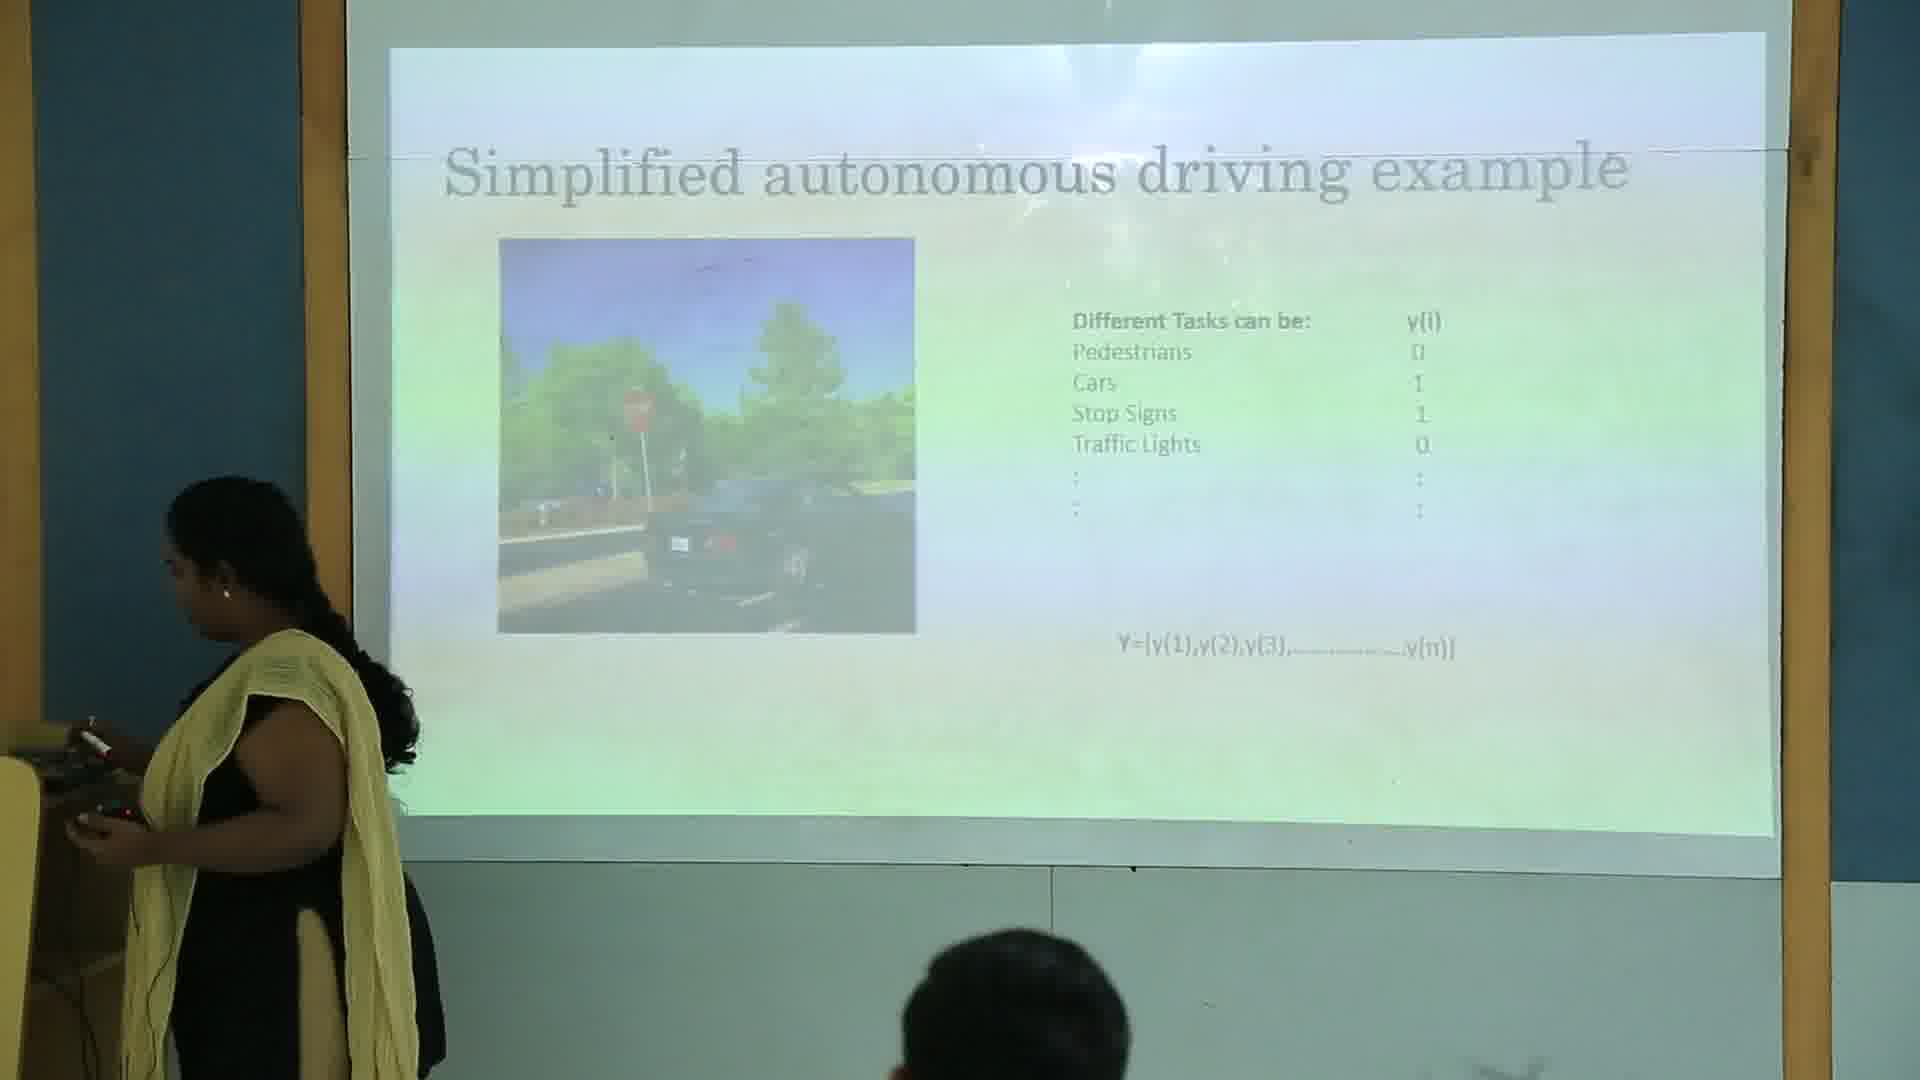eq: (1104, 624, 1461, 667)
fig: (500, 236, 918, 633)
